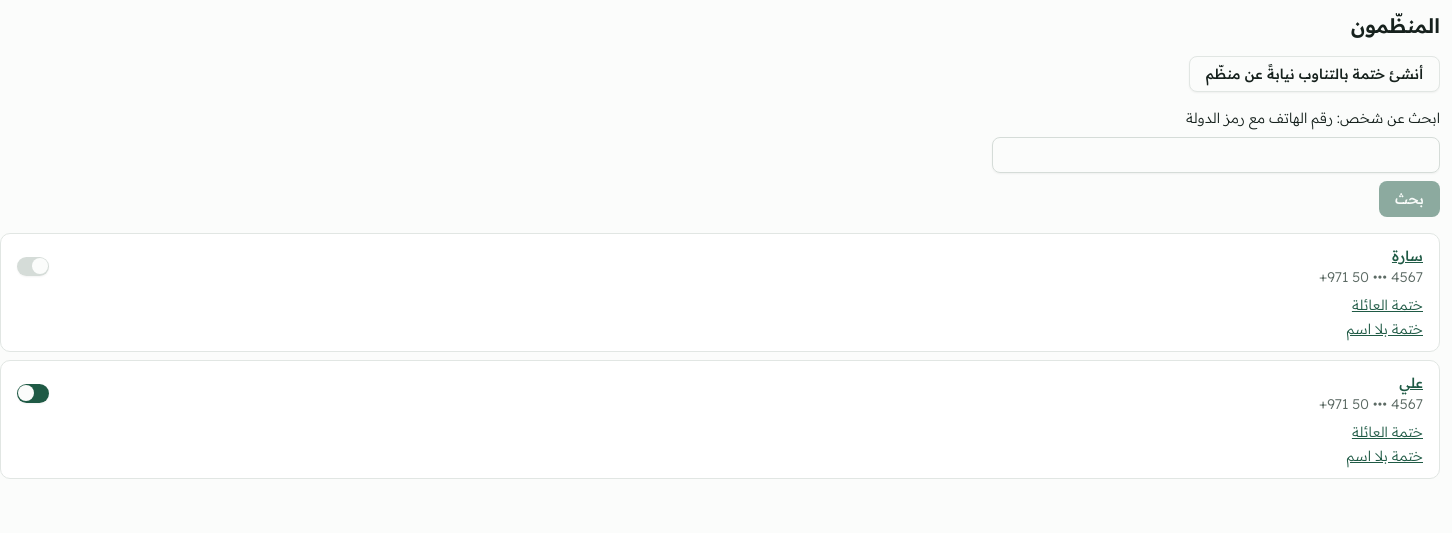
Test: OrganizersPage › says so when the search fails
This screenshot has width=1452, height=533.
Type "+971509998877" into the field labelled "ابحث عن شخص: رقم الهاتف مع رمز الدولة" at (1216, 155), box [992,137,1440,173]
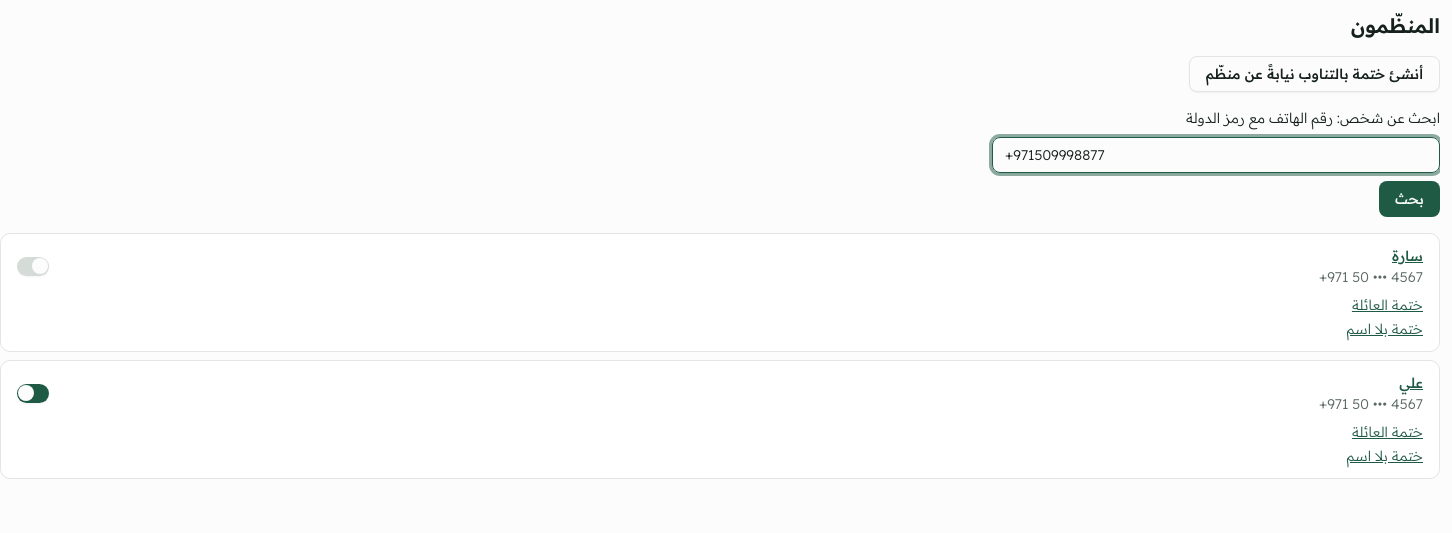
Click the button "بحث" at (1409, 199), box [1379,181,1440,217]
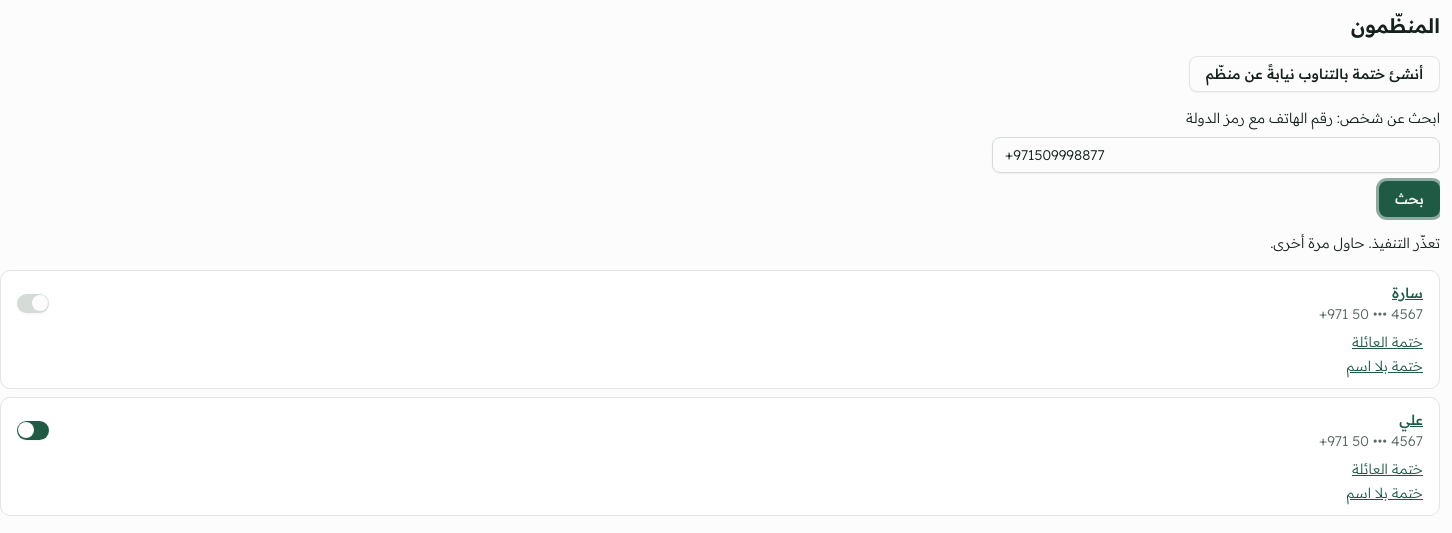
Expected: the message reads "تعذّر التنفيذ. حاول مرة أخرى.", [1270,234,1440,252]
